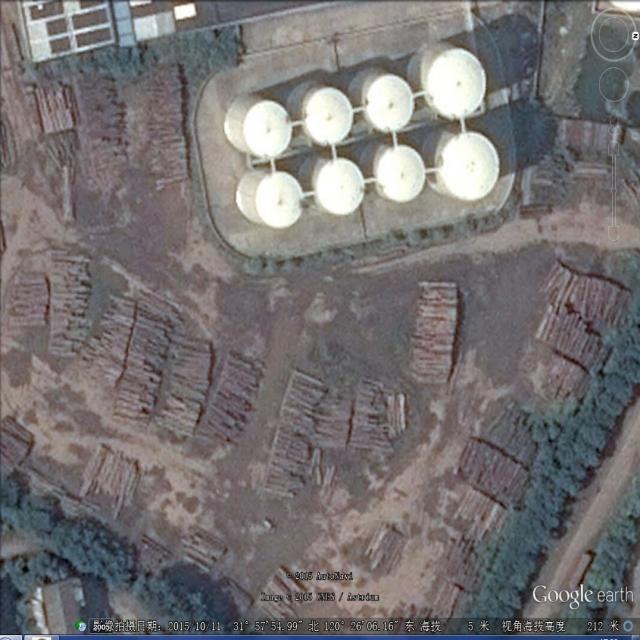oiltank: (407, 40, 489, 124), (420, 128, 502, 207), (233, 167, 308, 234), (349, 65, 418, 136), (222, 93, 293, 161), (289, 78, 357, 147), (359, 139, 428, 207), (297, 152, 367, 218)
